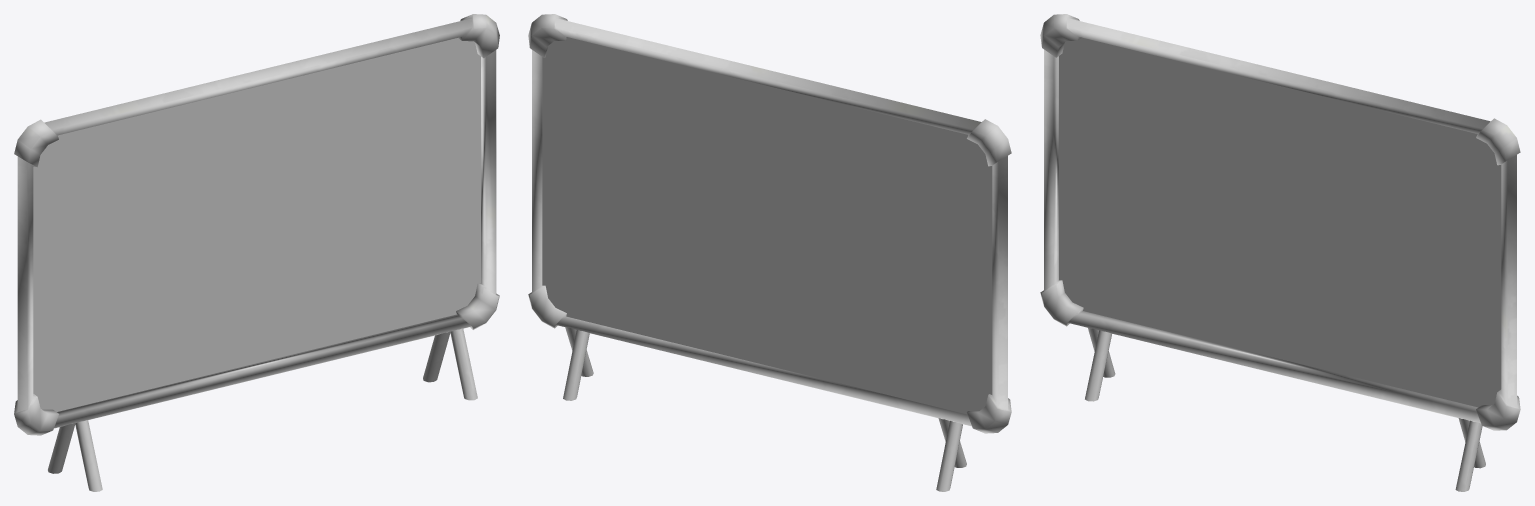
The model's file is WalkwayBarrier.fbx.
3 renders of one model, left to right at view 1: azimuth 30°, elevation 25°; view 2: azimuth 150°, elevation 25°; view 3: azimuth 330°, elevation 25°, orthographic.
Parts seen in each view (by area): view 1: WalkwayWire, WalkwayBarrier; view 2: WalkwayWire, WalkwayBarrier; view 3: WalkwayWire, WalkwayBarrier.
Part boxes in pixels (x1,y1,x2,y2): WalkwayWire: (33,38,480,411); WalkwayBarrier: (14,14,499,491); WalkwayWire: (542,37,992,414); WalkwayBarrier: (528,14,1011,491); WalkwayWire: (1059,37,1501,407); WalkwayBarrier: (1040,14,1520,491).
Size of the model in its own units: 1701 by 1233 by 220.
